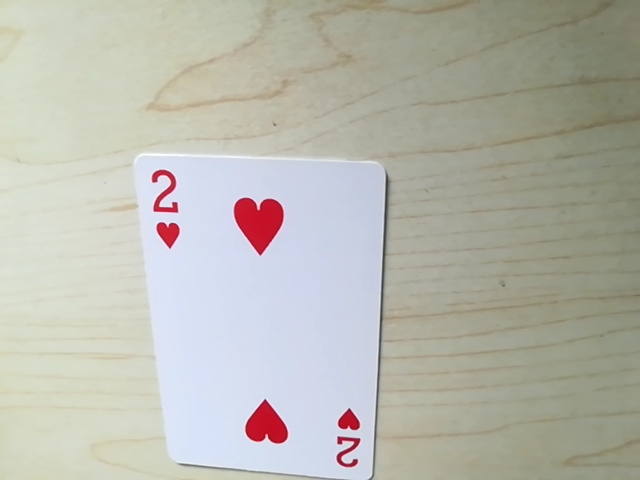hx 2: (141, 163, 193, 250), (325, 403, 368, 472)
